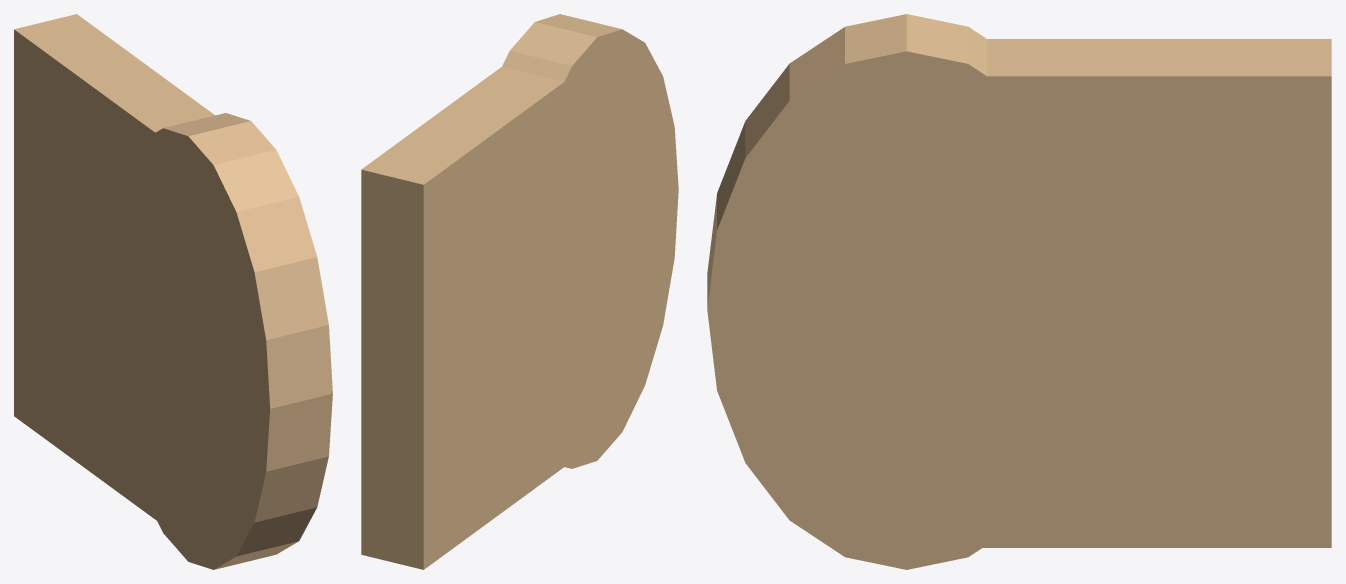
Rendered from piece of toast.obj.
The picture shows the model from 3 angles, left to right: view 1: azimuth 30°, elevation 25°; view 2: azimuth 150°, elevation 25°; view 3: azimuth 270°, elevation 25°; orthographic projection. The views are drawn at different scales.
Visible parts, largest first — view 1: obj_0; view 2: obj_0; view 3: obj_0.
Part boxes in pixels (left/top/right/bottom): obj_0: left=14, top=14, right=332, bottom=569; obj_0: left=361, top=14, right=678, bottom=569; obj_0: left=707, top=14, right=1331, bottom=569.
Bounding box in the file's own units: 30 × 194 × 212.
